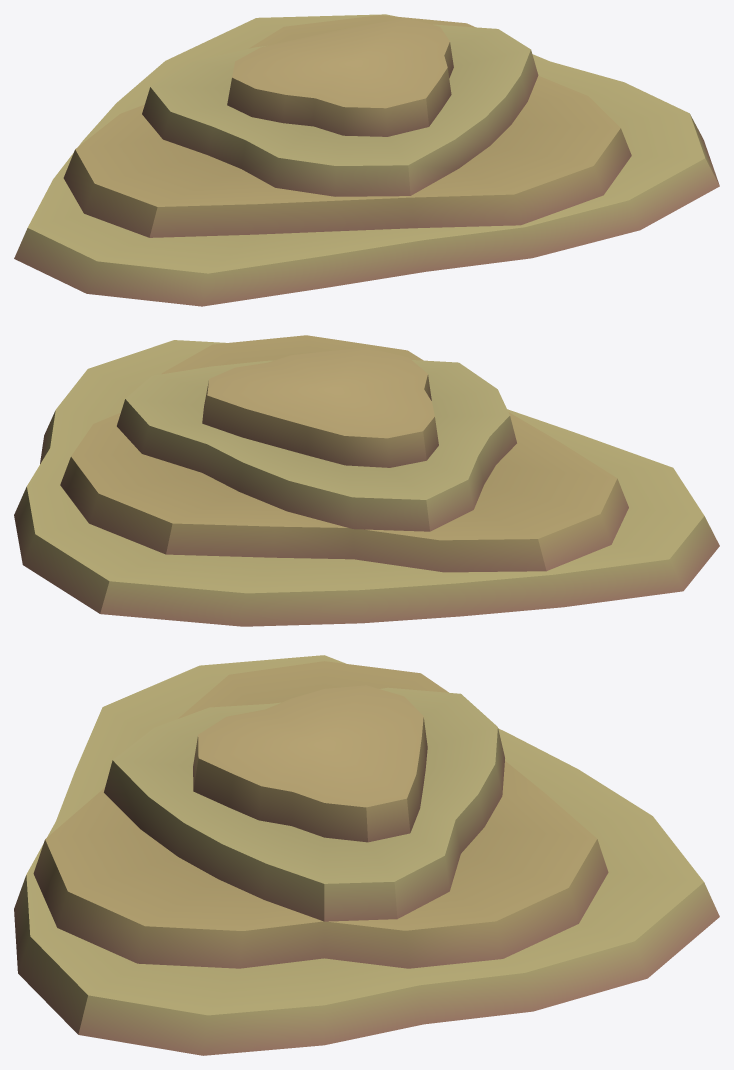
File: lichen_terrace.glb
3 renders of one model, top to bottom at view 1: azimuth 30°, elevation 25°; view 2: azimuth 150°, elevation 25°; view 3: azimuth 270°, elevation 25°, orthographic. The views are drawn at different scales.
Parts seen in each view (by area): view 1: lichen_terrace; view 2: lichen_terrace; view 3: lichen_terrace.
Part boxes in pixels (left/top/right/bottom): lichen_terrace: left=14, top=14, right=719, bottom=306; lichen_terrace: left=14, top=335, right=719, bottom=626; lichen_terrace: left=14, top=655, right=719, bottom=1055.
Size of the model in its own units: 6.75 by 1.14 by 5.37.
